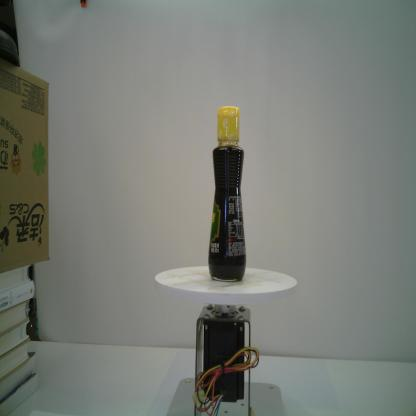Seasoner: (207, 104, 247, 282)
